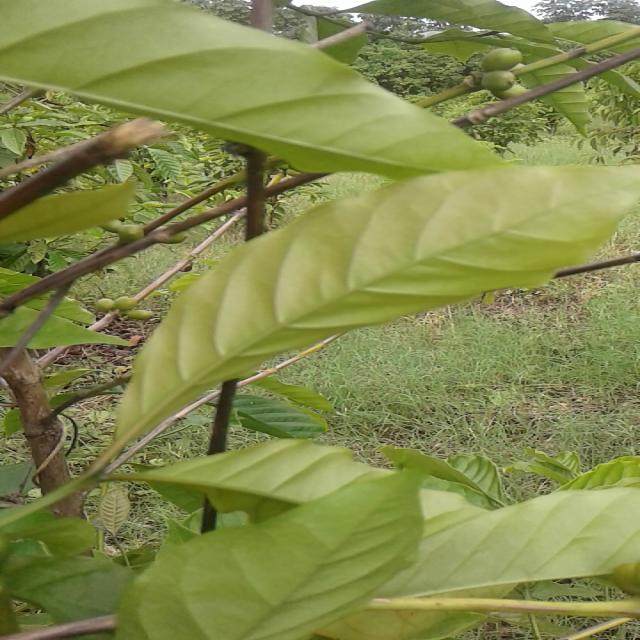Sanas: (108, 167, 640, 474)
